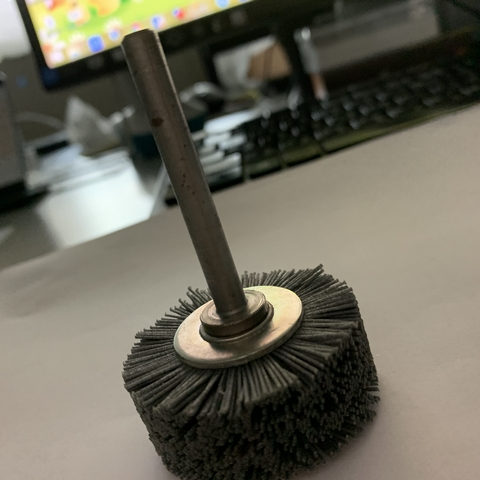Wheel Brush: (107, 26, 388, 474), (124, 33, 366, 475), (120, 175, 379, 479)
